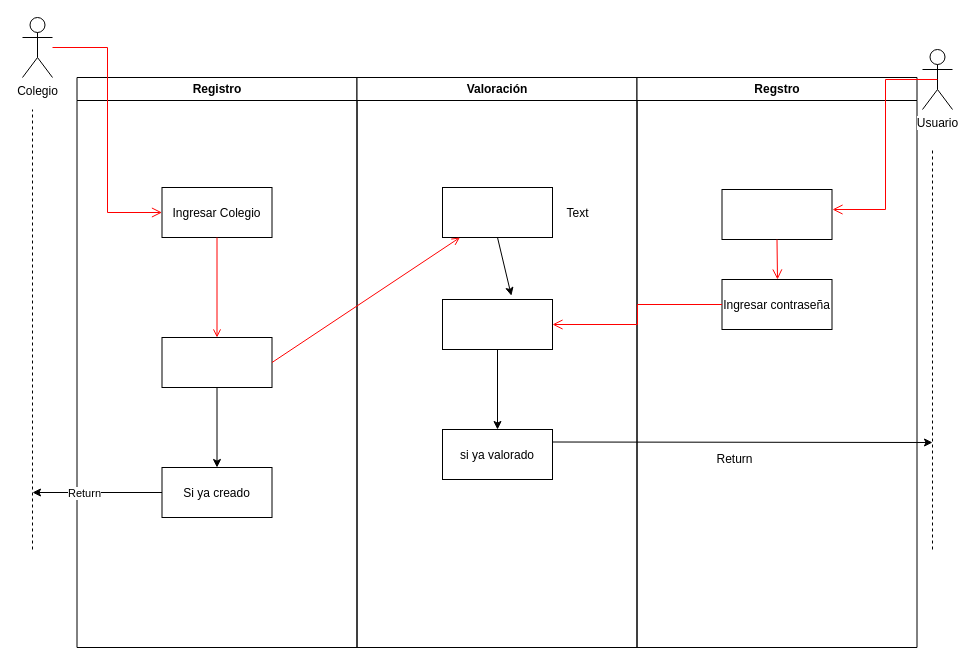
This 975x665 diagram has some shape labels left out. Here are the shapes that lost their labels. From the top down, the centre of each, then its label:
(x=497, y=212): Ingresar cuadro
(x=776, y=214): ingresar usuario
(x=497, y=324): Valorar cuadros
(x=216, y=362): Ingresar alumno
